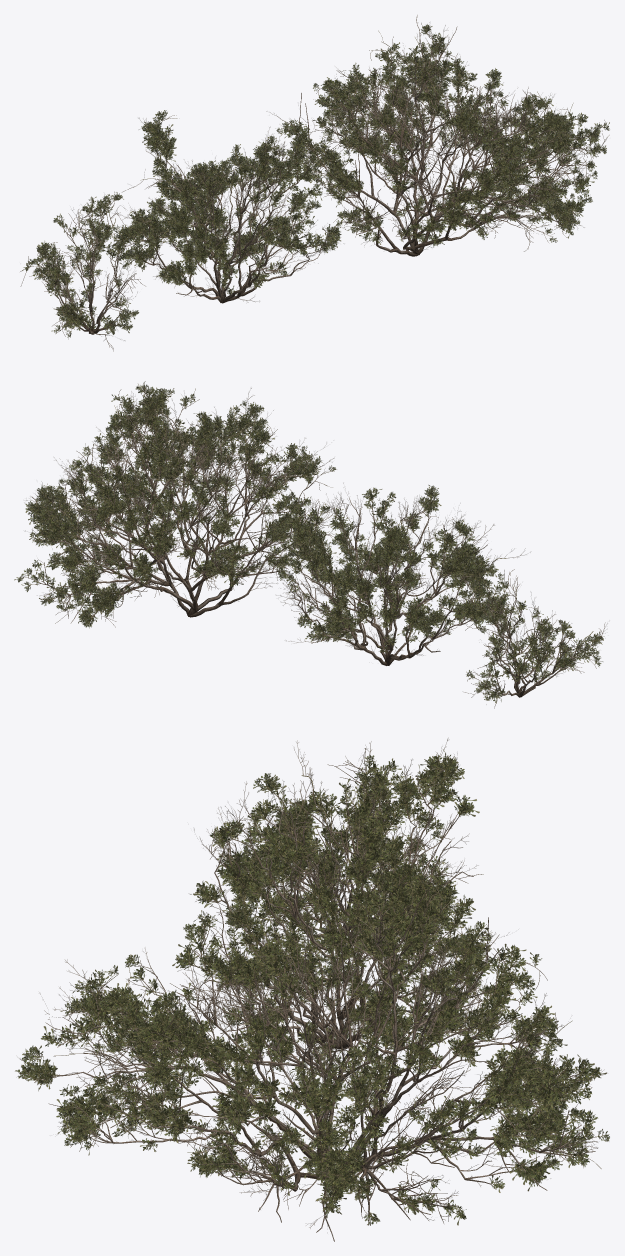
Rendered from searsia_burchellii.gltf.
The picture shows the model from 3 angles, top to bottom: view 1: azimuth 30°, elevation 25°; view 2: azimuth 150°, elevation 25°; view 3: azimuth 270°, elevation 25°; orthographic projection. The views are drawn at different scales.
Parts seen in each view (by area): view 1: searsia_burchellii_large_LOD0, searsia_burchellii_medium_LOD0, searsia_burchellii_small_LOD0; view 2: searsia_burchellii_large_LOD0, searsia_burchellii_medium_LOD0, searsia_burchellii_small_LOD0; view 3: searsia_burchellii_large_LOD0, searsia_burchellii_medium_LOD0, searsia_burchellii_small_LOD0.
Boxes of the visible parts, <box> form: searsia_burchellii_large_LOD0: <box>266,15,609,256</box>; searsia_burchellii_medium_LOD0: <box>109,110,350,303</box>; searsia_burchellii_small_LOD0: <box>20,191,145,351</box>; searsia_burchellii_large_LOD0: <box>14,381,340,628</box>; searsia_burchellii_medium_LOD0: <box>276,483,530,665</box>; searsia_burchellii_small_LOD0: <box>457,564,607,708</box>; searsia_burchellii_large_LOD0: <box>15,864,609,1241</box>; searsia_burchellii_medium_LOD0: <box>174,738,479,1075</box>; searsia_burchellii_small_LOD0: <box>216,741,483,943</box>.
Bounding box in the file's own units: 8.36 × 3.25 × 5.05.
Materials: 3 (3 with a texture image).
